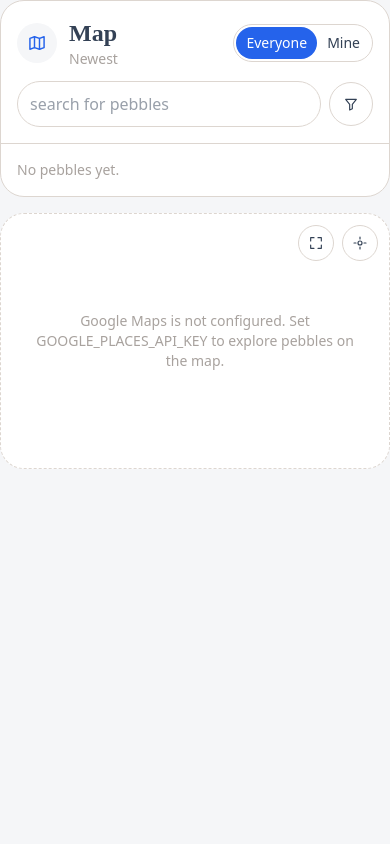
it: Map route › shows filter chip for author and clears it
The image size is (390, 844).
expect the element with test id "map-feed-panel" is shown: met, box [0,0,389,197]
Type "kait" into the field labelled "search for pebbles" at (169, 104), box [17,81,321,127]
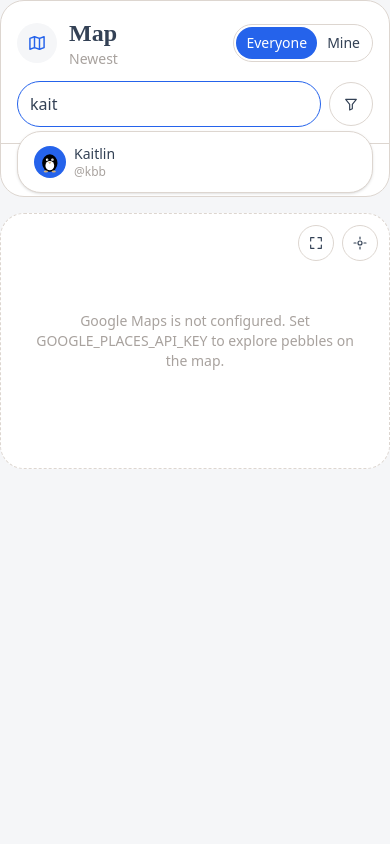
expect the text "Kaitlin" is shown: met
Click the text "Kaitlin" at (95, 154), box [74,144,115,164]
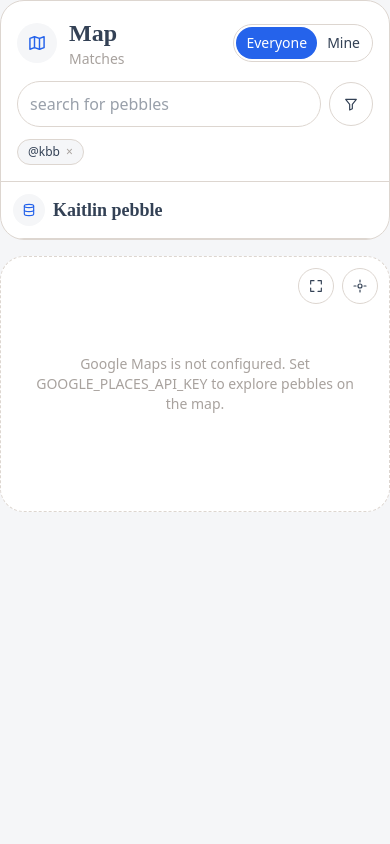
expect the button with aria-label "Remove filter @kbb" is shown: met
Click the button with aria-label "Remove filter @kbb" at (50, 152), box [17,139,84,165]
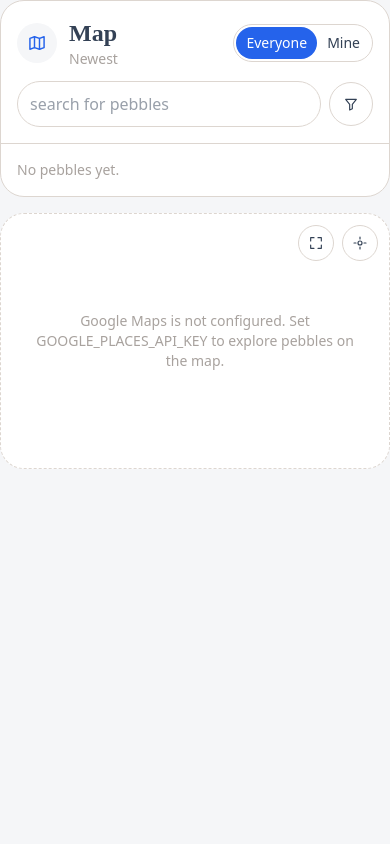
expect the element with test id "map-filter-chips" is gone: met
